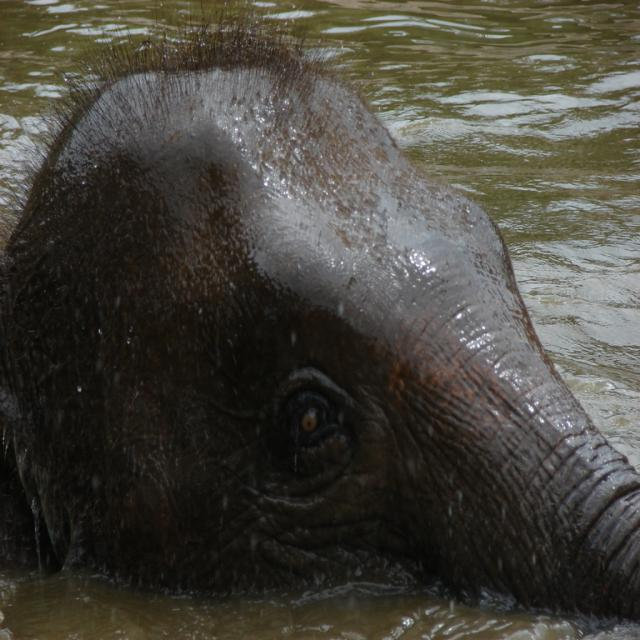Elephant: (0, 63, 606, 639)
